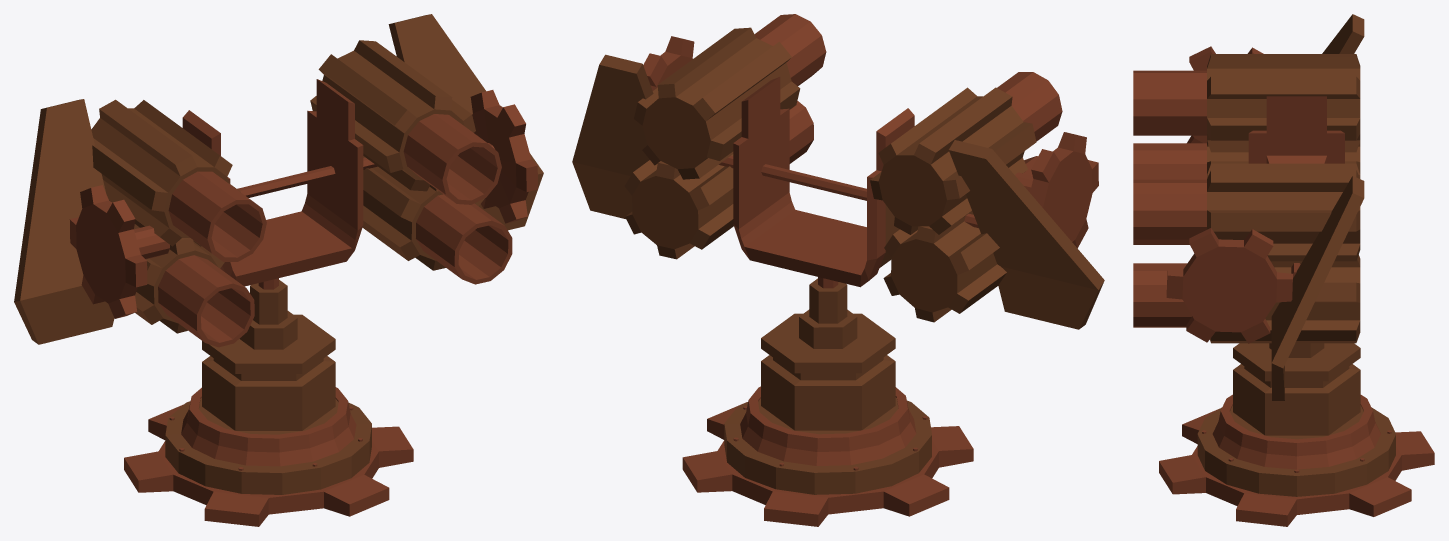
The model's file is Cannon_5.glb.
3 views of the same model, side by side, from view 1: azimuth 30°, elevation 25°; view 2: azimuth 150°, elevation 25°; view 3: azimuth 270°, elevation 25° (orthographic). The views are drawn at different scales.
Parts seen in each view (by area): view 1: Cannon_5_Gun, Cannon_5_Mid, Cannon_5_Base; view 2: Cannon_5_Gun, Cannon_5_Mid, Cannon_5_Base; view 3: Cannon_5_Gun, Cannon_5_Base, Cannon_5_Mid.
Boxes of the visible parts, x1=… form: Cannon_5_Gun: x1=14, y1=14, x2=543, y2=347; Cannon_5_Mid: x1=182, y1=79, x2=377, y2=430; Cannon_5_Base: x1=124, y1=387, x2=413, y2=526; Cannon_5_Gun: x1=572, y1=14, x2=1104, y2=329; Cannon_5_Mid: x1=719, y1=77, x2=978, y2=430; Cannon_5_Base: x1=682, y1=386, x2=973, y2=526; Cannon_5_Gun: x1=1133, y1=14, x2=1364, y2=400; Cannon_5_Base: x1=1159, y1=394, x2=1434, y2=526; Cannon_5_Mid: x1=1233, y1=96, x2=1360, y2=435.
Bounding box in the file's own units: 2.88 × 2.02 × 1.5.
